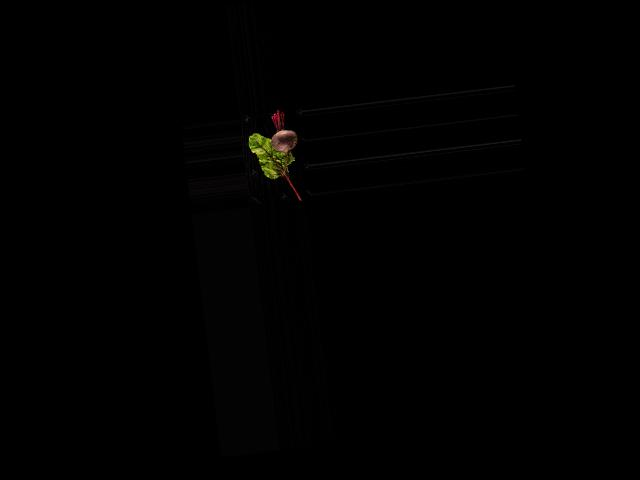beet: (267, 107, 302, 177)
